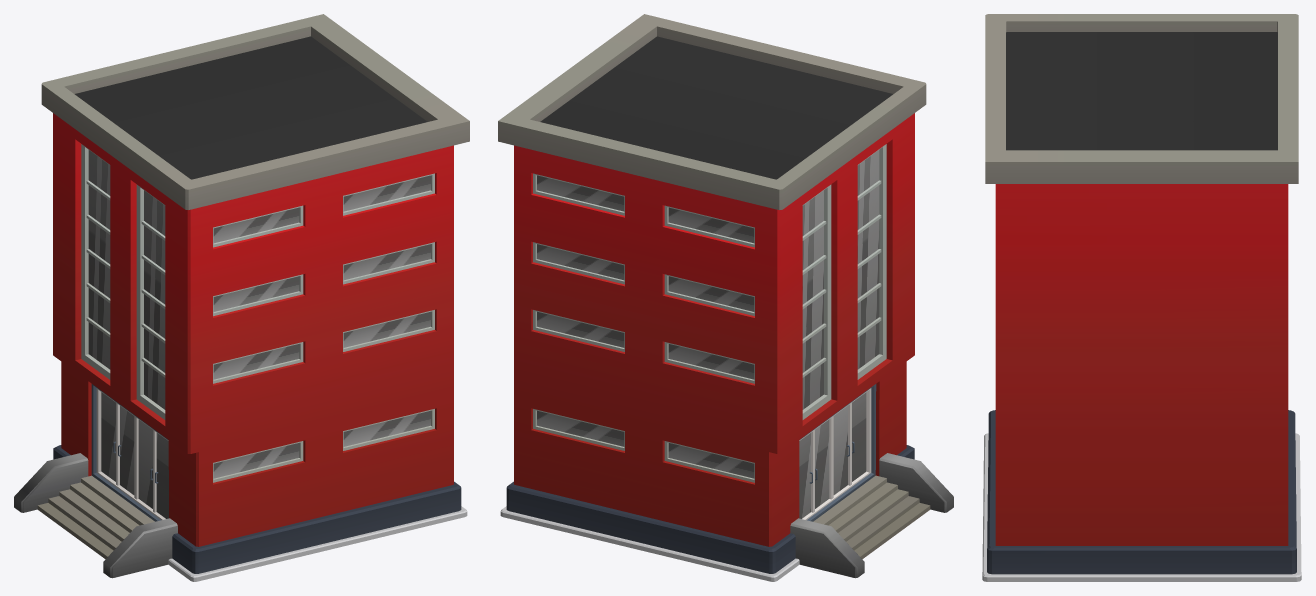
File: Building_26_C.fbx
3 views of the same model, side by side, from view 1: azimuth 30°, elevation 25°; view 2: azimuth 150°, elevation 25°; view 3: azimuth 270°, elevation 25° (orthographic). The views are drawn at different scales.
Parts seen in each view (by area): view 1: Building_26_C; view 2: Building_26_C; view 3: Building_26_C.
Part boxes in pixels (x1=…): Building_26_C: x1=14, y1=14, x2=469, y2=581; Building_26_C: x1=498, y1=14, x2=953, y2=581; Building_26_C: x1=982, y1=14, x2=1301, y2=581.
Size of the model in its own units: 923 by 1037 by 712.
